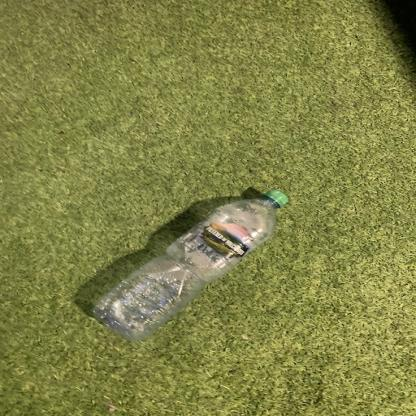trash: (87, 188, 290, 344)
